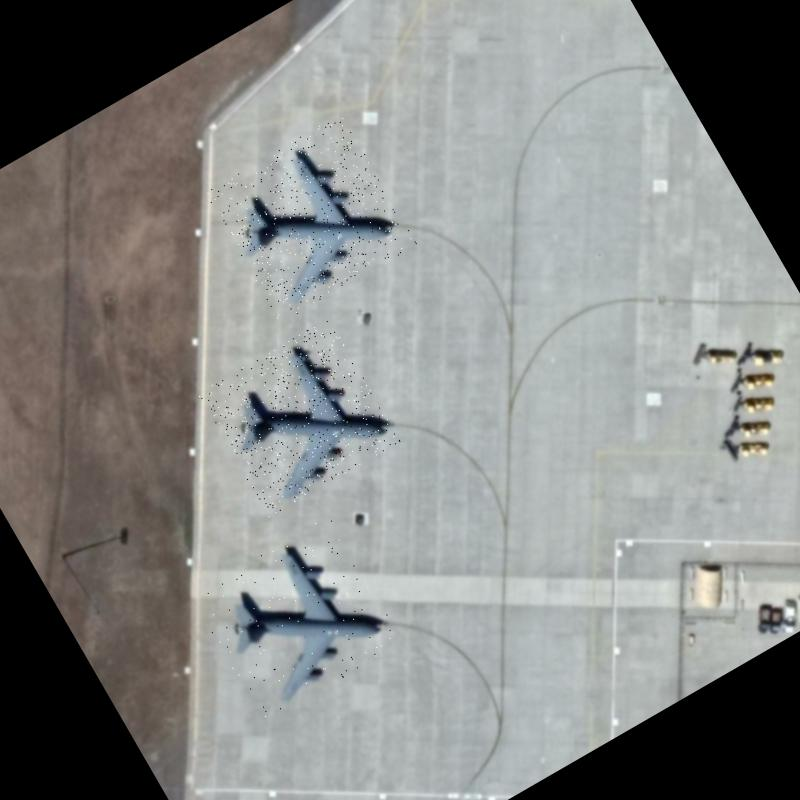A14: (188, 514, 404, 724), (204, 113, 418, 324), (198, 317, 402, 518)
